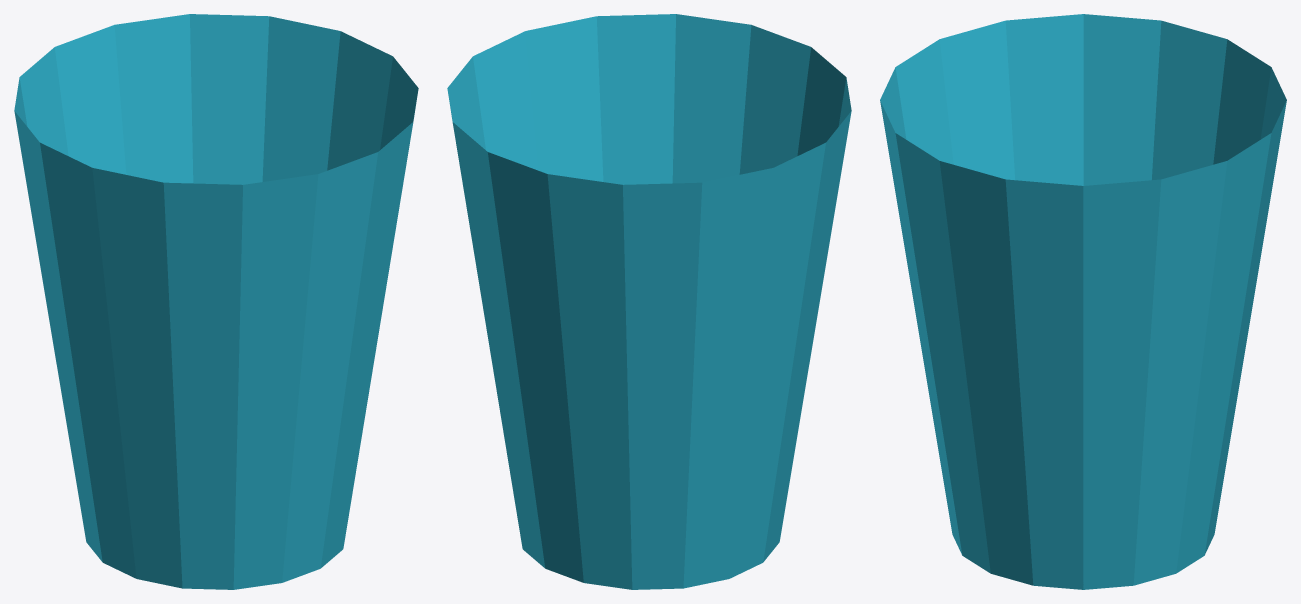
Rendered from yay.fbx.
The picture shows the model from 3 angles, left to right: view 1: azimuth 30°, elevation 25°; view 2: azimuth 150°, elevation 25°; view 3: azimuth 270°, elevation 25°; orthographic projection.
Parts seen in each view (by area): view 1: Cylinder; view 2: Cylinder; view 3: Cylinder.
Boxes of the visible parts, x1,y1,x2,y2 form: Cylinder: [14, 14, 418, 589]; Cylinder: [447, 14, 851, 589]; Cylinder: [880, 14, 1286, 589].
Bounding box in the file's own units: 311 × 366 × 311.
